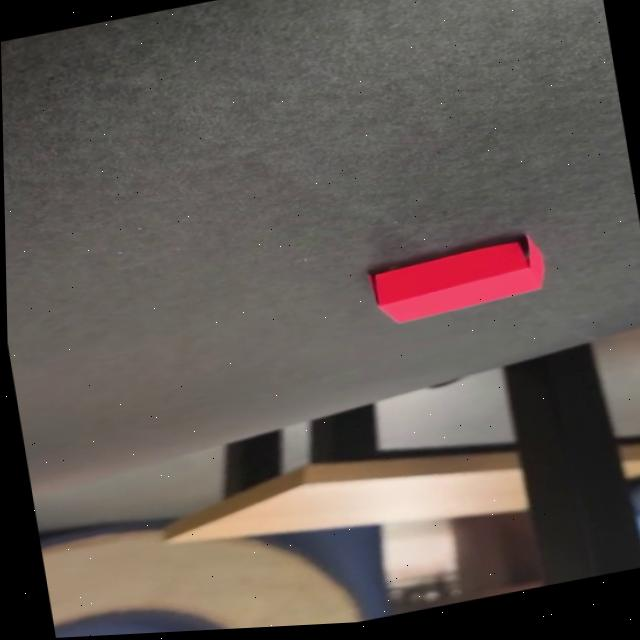red block: (364, 232, 549, 330)
